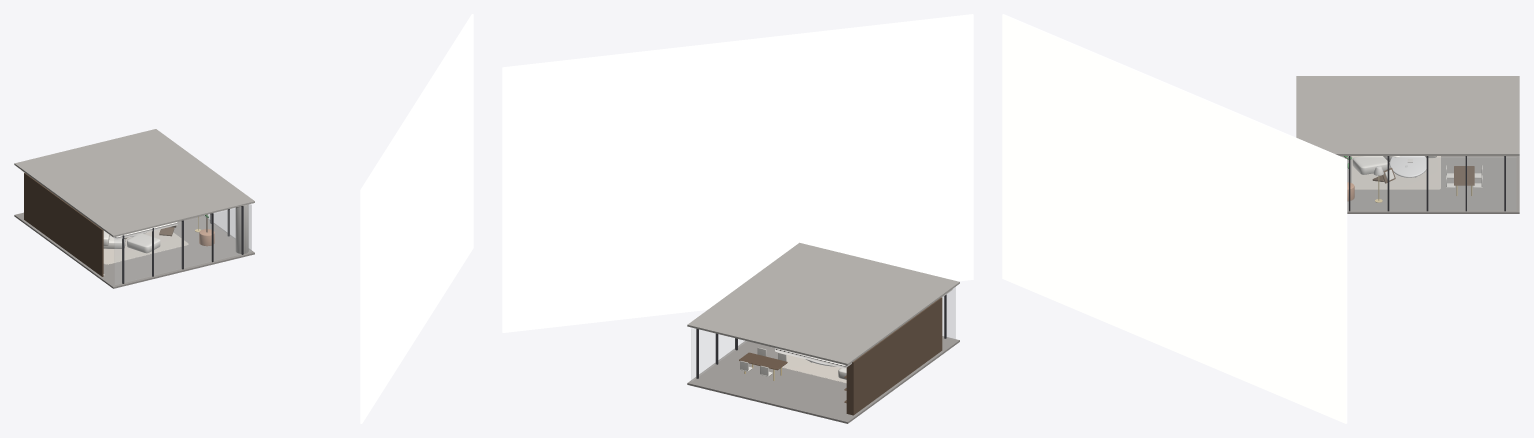
File: penthouse_interior_3d.glb
3 renders of one model, left to right at view 1: azimuth 30°, elevation 25°; view 2: azimuth 150°, elevation 25°; view 3: azimuth 270°, elevation 25°, orthographic. The views are drawn at different scales.
Parts seen in each view (by area): view 1: Sky_Sunset_Backdrop, Ceiling_Concrete, Glass_Front, Floor, Wall_Left_Back, Area_Rug, Bookcase_Niche, Column_Concrete, Glass_Right, Sofa_M3_Seat; view 2: Sky_Sunset_Backdrop, Ceiling_Concrete, Floor, Wall_Left_Back, Bookcase_Niche, Glass_Right, Area_Rug, Glass_Front, DiningTable_Top; view 3: Sky_Sunset_Backdrop, Ceiling_Concrete, Glass_Right, Floor, Area_Rug, CoffeeTable_Top, Sofa_M3_Seat.
Boxes of the visible parts, x1,y1,x2,y2 form: Sky_Sunset_Backdrop: (360,14,473,423); Ceiling_Concrete: (14,129,254,237); Glass_Front: (114,205,251,284); Floor: (14,212,254,288); Wall_Left_Back: (40,185,103,276); Area_Rug: (103,229,188,264); Bookcase_Niche: (24,172,43,233); Column_Concrete: (235,204,248,253); Glass_Right: (203,204,251,251); Sofa_M3_Seat: (127,233,160,253); Sky_Sunset_Backdrop: (502,14,973,332); Ceiling_Concrete: (687,242,959,365); Floor: (687,336,959,423); Wall_Left_Back: (871,297,942,401); Bookcase_Niche: (846,349,871,415); Glass_Right: (691,328,746,381); Area_Rug: (782,354,846,383); Glass_Front: (942,287,955,339); DiningTable_Top: (739,352,787,370); Sky_Sunset_Backdrop: (1002,14,1347,423); Ceiling_Concrete: (1296,76,1519,155); Glass_Right: (1343,157,1516,209); Floor: (1340,156,1519,213); Area_Rug: (1351,156,1440,189); CoffeeTable_Top: (1389,156,1426,177); Sofa_M3_Seat: (1352,156,1387,174).
Bounding box in the file's own units: 25.62 × 15 × 26.62.
